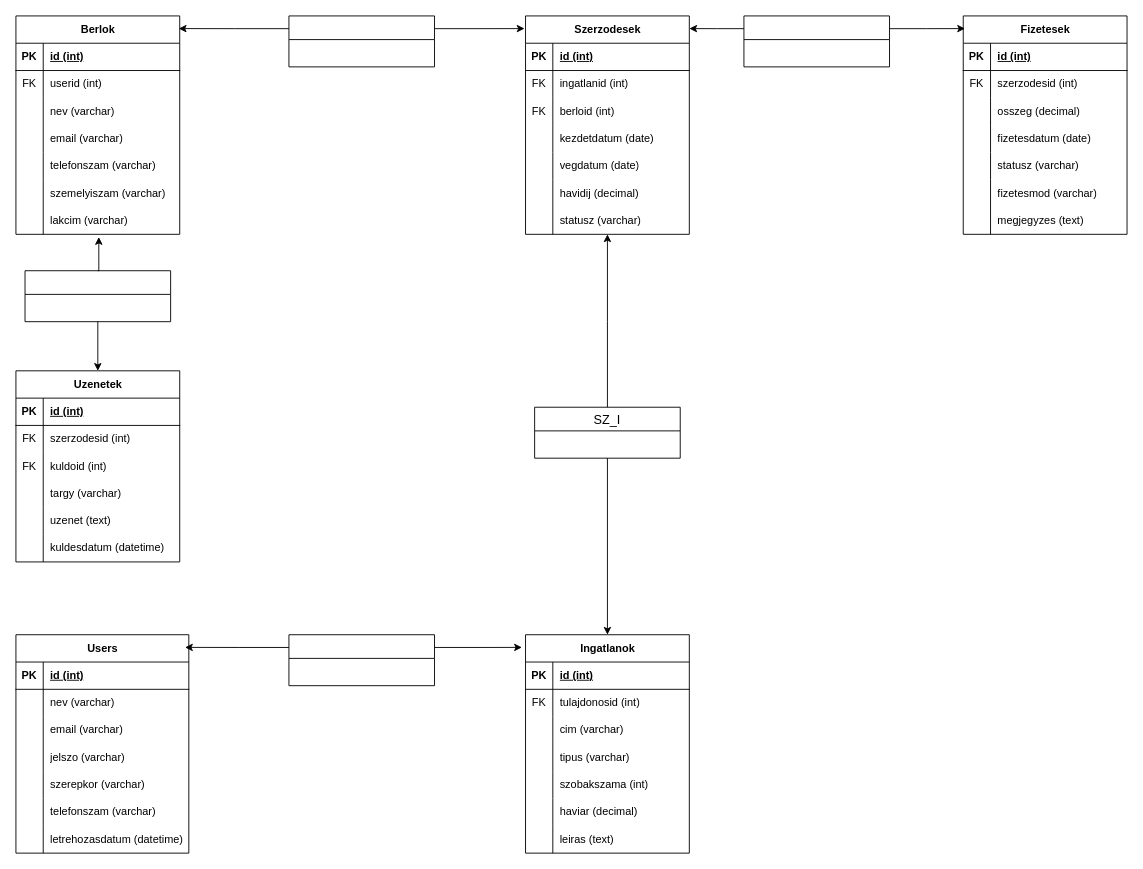
The diagram is 1143 pixels wide and 869 high, and some of its shapes have lost their labels. The shapes that lost their labels are listed below. From the top down, each one's centre as x and y in pixels, then its label:
At (361,41): "B_SZ".
At (816,41): "SZ_F".
At (97,296): "B_U".
At (361,660): "U_I".
